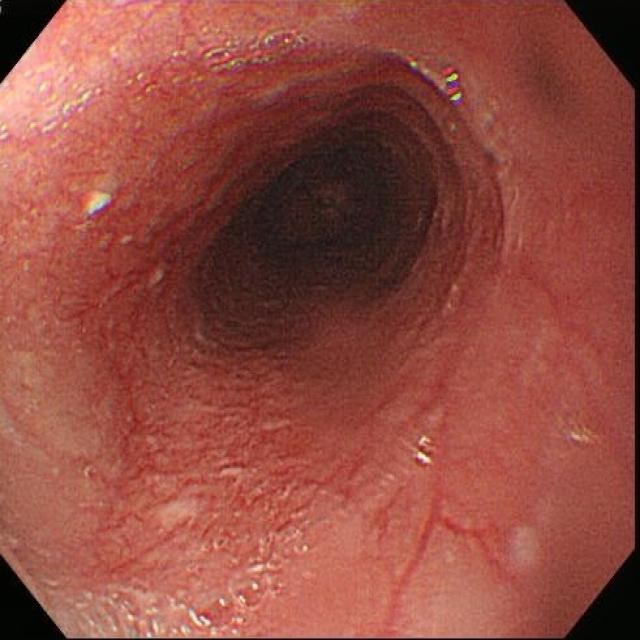A: (145, 364, 309, 528)
E: (236, 122, 429, 331)
T: (78, 561, 273, 640), (436, 59, 473, 107), (79, 184, 120, 225), (410, 435, 444, 468)
